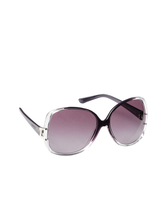glasses: (14, 91, 152, 160)
